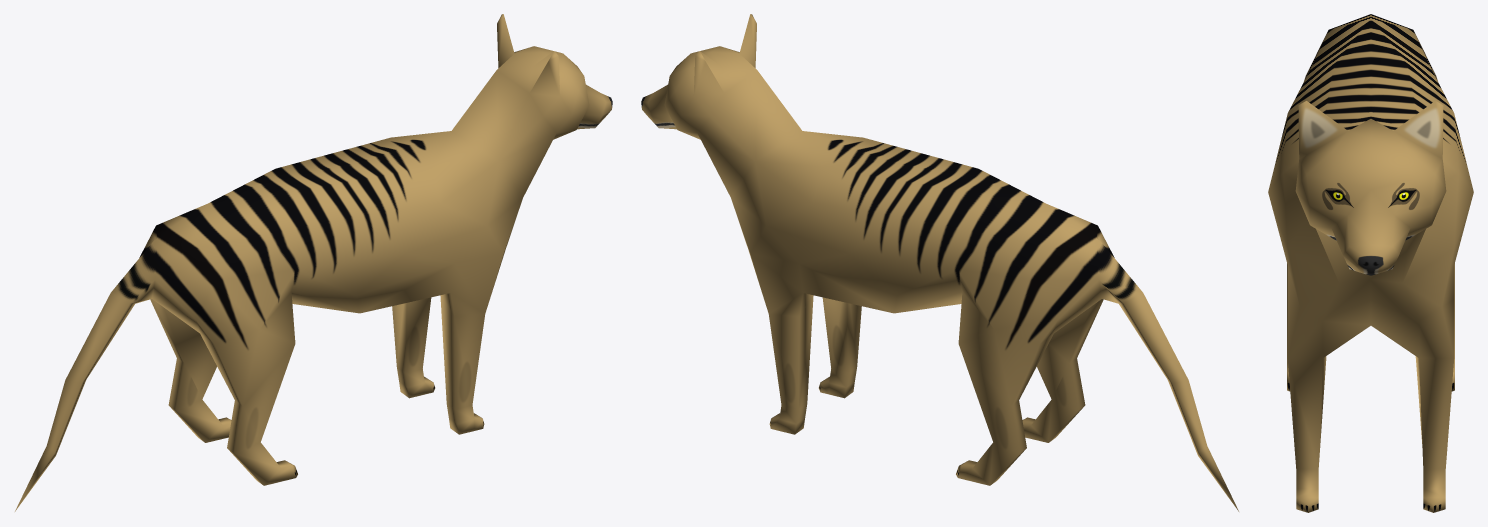
Rendered from tasmanian-wolf-by-gwym-hendawyr-2yEZA3TLwVI.glb.
The picture shows the model from 3 angles, left to right: view 1: azimuth 30°, elevation 25°; view 2: azimuth 150°, elevation 25°; view 3: azimuth 270°, elevation 25°; orthographic projection. The views are drawn at different scales.
Parts seen in each view (by area): view 1: Icosphere_Icosphere.001; view 2: Icosphere_Icosphere.001; view 3: Icosphere_Icosphere.001.
Part boxes in pixels (box(x1,y1,x2,y2)): Icosphere_Icosphere.001: box(15, 14, 612, 511); Icosphere_Icosphere.001: box(641, 14, 1238, 511); Icosphere_Icosphere.001: box(1268, 14, 1473, 512).
Bounding box in the file's own units: 2.01 × 1.15 × 0.4696.
Materials: 1 (1 with a texture image).
